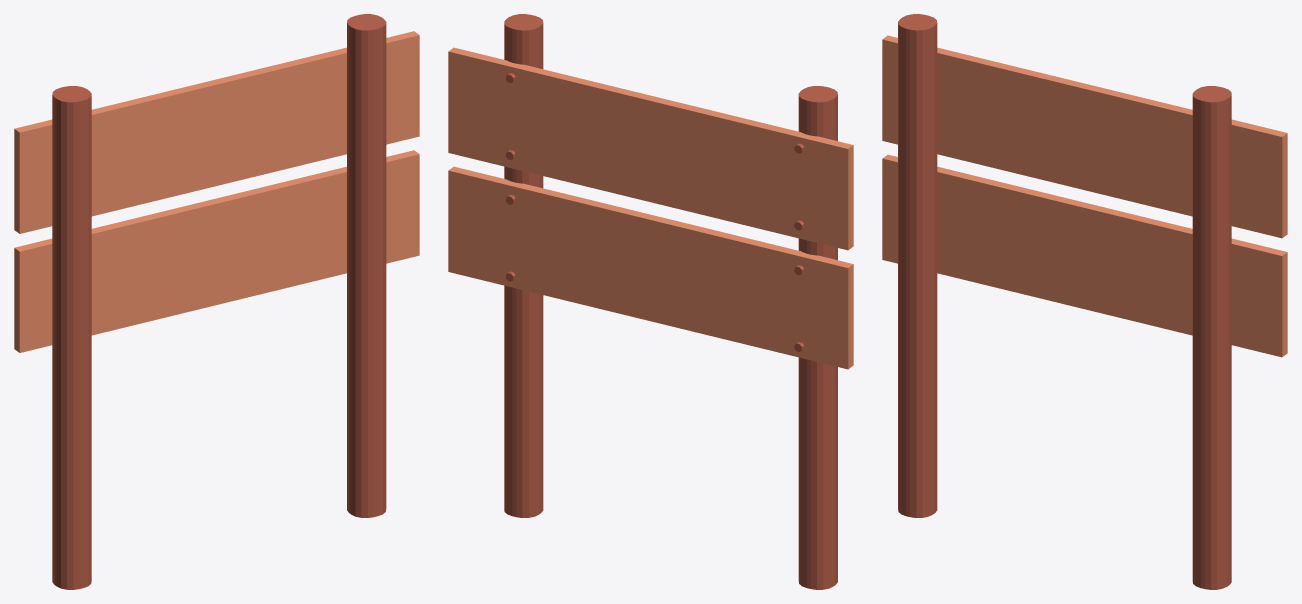
The model's file is WoddenSign.fbx.
3 renders of one model, left to right at view 1: azimuth 30°, elevation 25°; view 2: azimuth 150°, elevation 25°; view 3: azimuth 330°, elevation 25°, orthographic.
Visible parts, largest first — view 1: Cube.224; view 2: Cube.224; view 3: Cube.224.
Part boxes in pixels (x1,y1,x2,y2): Cube.224: (14,14,419,589); Cube.224: (448,14,853,589); Cube.224: (882,14,1287,589).
Size of the model in its own units: 983 by 1145 by 109.
